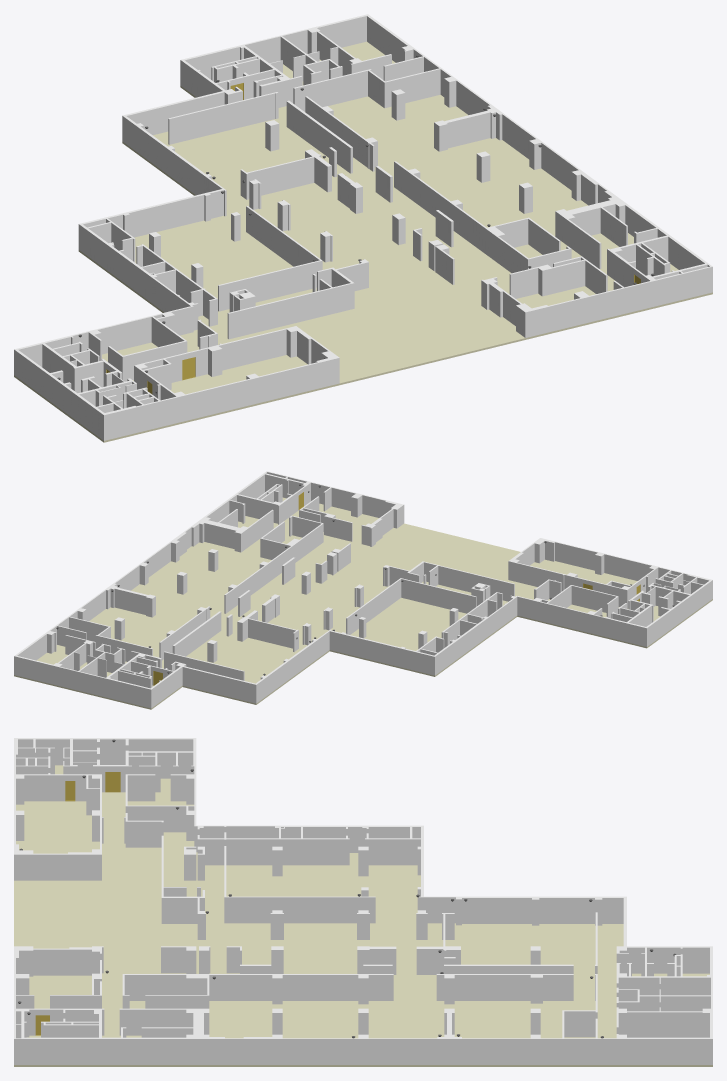
File: 2cen.gltf
3 views of the same model, one above another, from view 1: azimuth 30°, elevation 25°; view 2: azimuth 150°, elevation 25°; view 3: azimuth 270°, elevation 25° (orthographic). The views are drawn at different scales.
Parts seen in each view (by area): view 1: wall, ground; view 2: wall, ground; view 3: wall, ground.
Boxes of the visible parts, left/top/right/bottom form: wall: left=14, top=14, right=712, bottom=440; ground: left=14, top=41, right=712, bottom=442; wall: left=14, top=471, right=712, bottom=708; ground: left=14, top=497, right=712, bottom=709; wall: left=14, top=738, right=712, bottom=1064; ground: left=14, top=765, right=712, bottom=1066.
Size of the model in its own units: 69.5 by 3 by 68.2.
